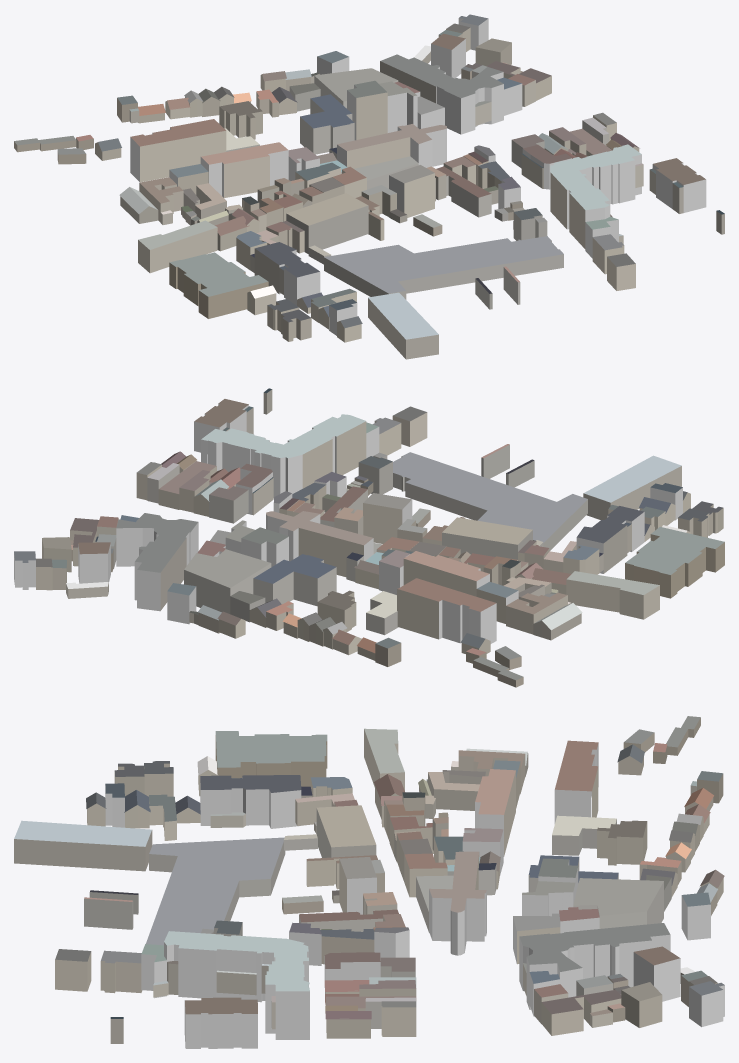
3 renders of one model, top to bottom at view 1: azimuth 30°, elevation 25°; view 2: azimuth 150°, elevation 25°; view 3: azimuth 270°, elevation 25°, orthographic. The views are drawn at different scales.
Visible parts, largest first — view 1: tuile; view 2: tuile; view 3: tuile.
Boxes of the visible parts, left/top/right/bottom form: tuile: left=14, top=14, right=724, bottom=359; tuile: left=14, top=388, right=724, bottom=687; tuile: left=14, top=716, right=724, bottom=1048.
Bounding box in the file's own units: 270 × 36.09 × 277.
